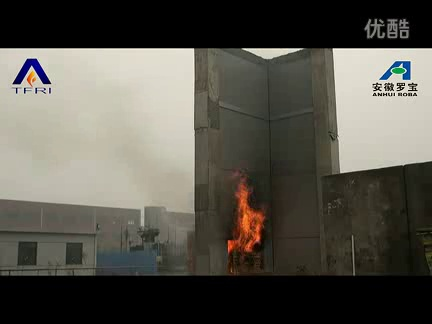fire: (224, 172, 265, 258)
